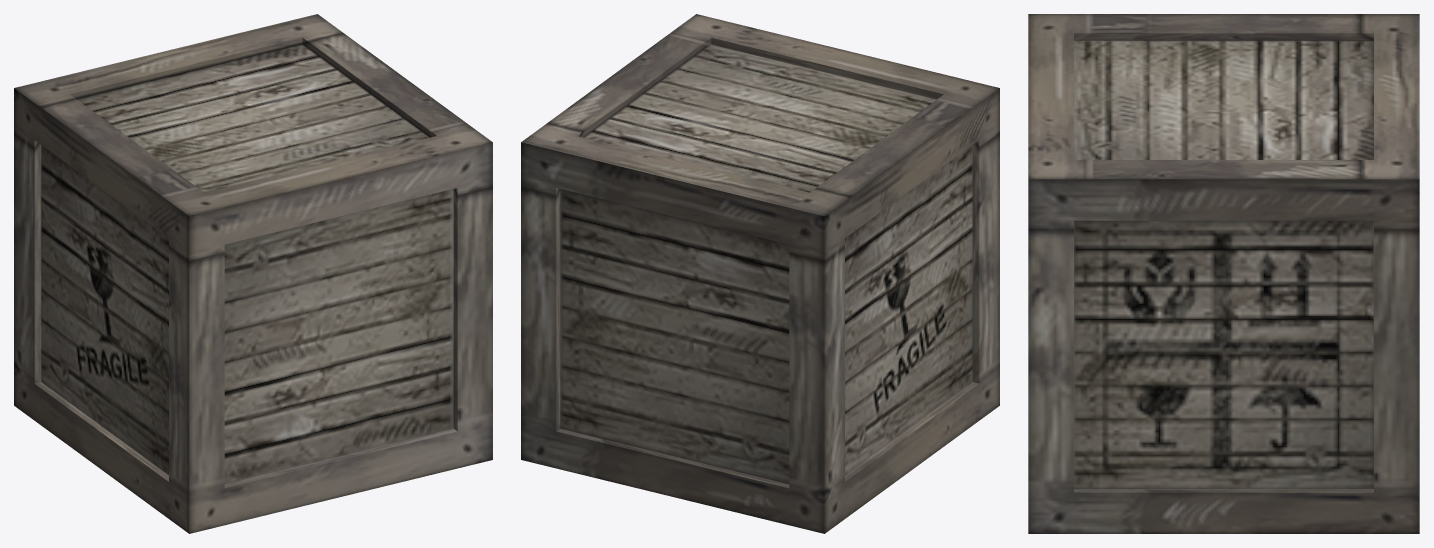
File: crate.fbx
3 renders of one model, left to right at view 1: azimuth 30°, elevation 25°; view 2: azimuth 150°, elevation 25°; view 3: azimuth 270°, elevation 25°, orthographic. The views are drawn at different scales.
Visible parts, largest first — view 1: pCube82; view 2: pCube82; view 3: pCube82.
Boxes of the visible parts, x1=… form: pCube82: x1=14, y1=14, x2=492, y2=533; pCube82: x1=521, y1=14, x2=999, y2=533; pCube82: x1=1028, y1=14, x2=1419, y2=533.
Size of the model in its own units: 84.17 by 84.17 by 84.17.
